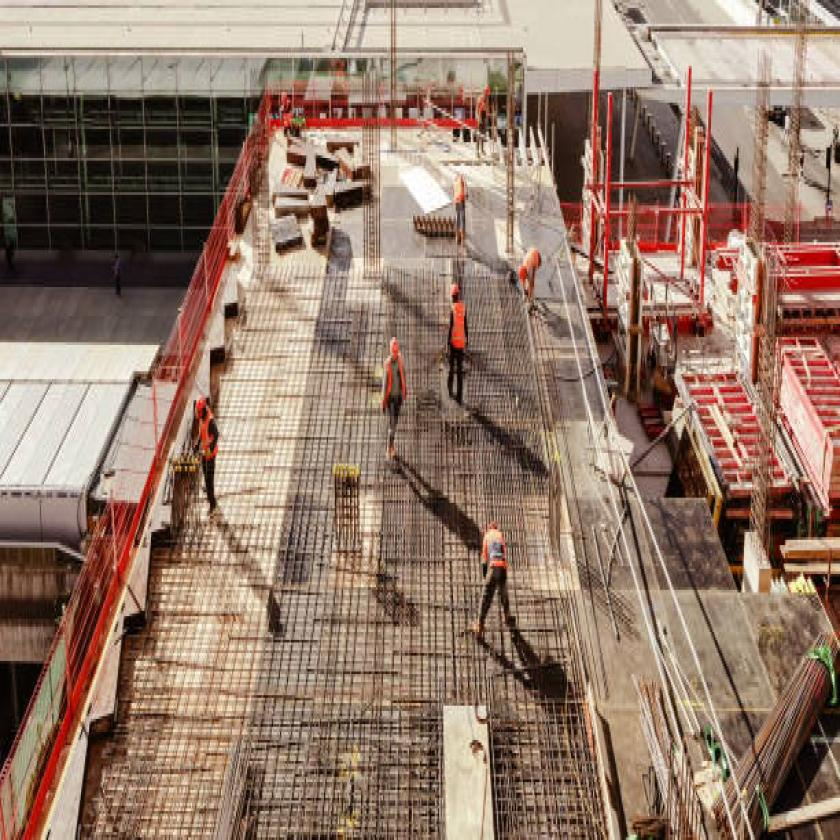Con_casco: (188, 388, 220, 426), (447, 273, 465, 319)
